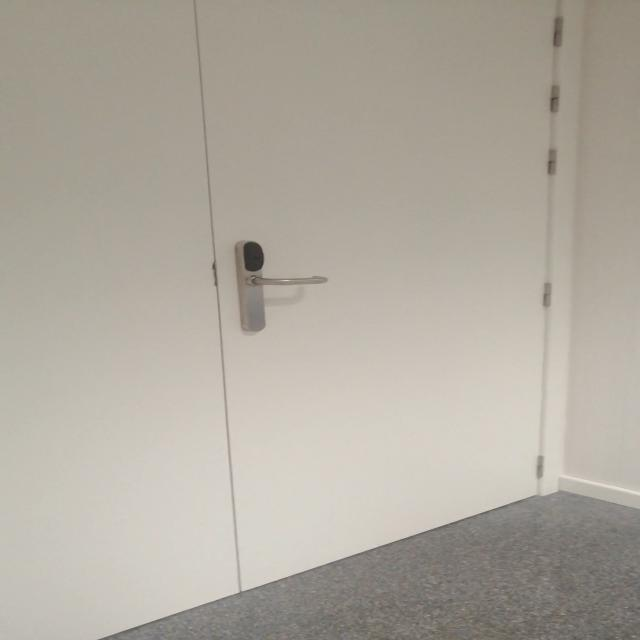door_handle: (241, 274, 339, 291)
